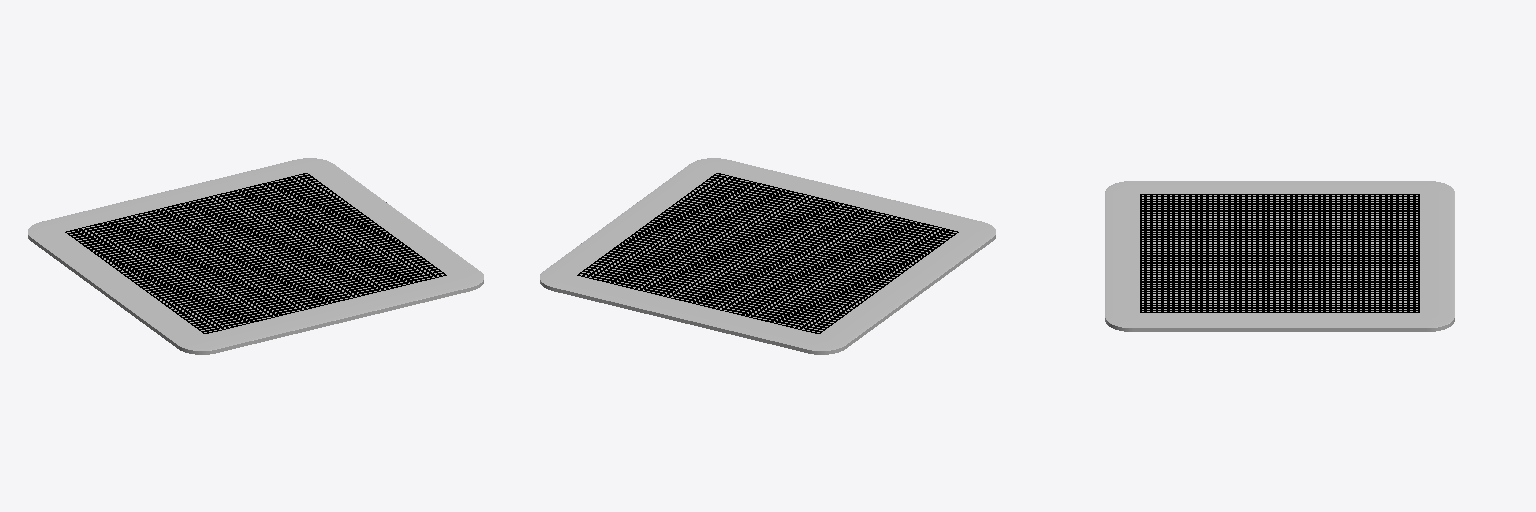
File: PressurePlate5x5_3.obj
3 renders of one model, left to right at view 1: azimuth 30°, elevation 25°; view 2: azimuth 150°, elevation 25°; view 3: azimuth 270°, elevation 25°, orthographic.
Visible parts, largest first — view 1: Cube.001, Grid.001; view 2: Cube.001, Grid.001; view 3: Cube.001, Grid.001.
Part boxes in pixels (x1,y1,x2,y2): Cube.001: (28, 158, 483, 354); Grid.001: (65, 173, 446, 333); Cube.001: (540, 158, 995, 354); Grid.001: (577, 173, 958, 333); Cube.001: (1105, 181, 1454, 331); Grid.001: (1140, 194, 1419, 312).
Bounding box in the file's own units: 10 × 0.1723 × 10.